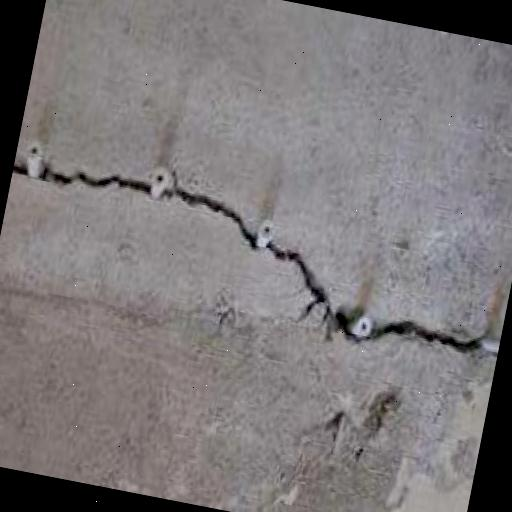spalling: (16, 133, 492, 361)
